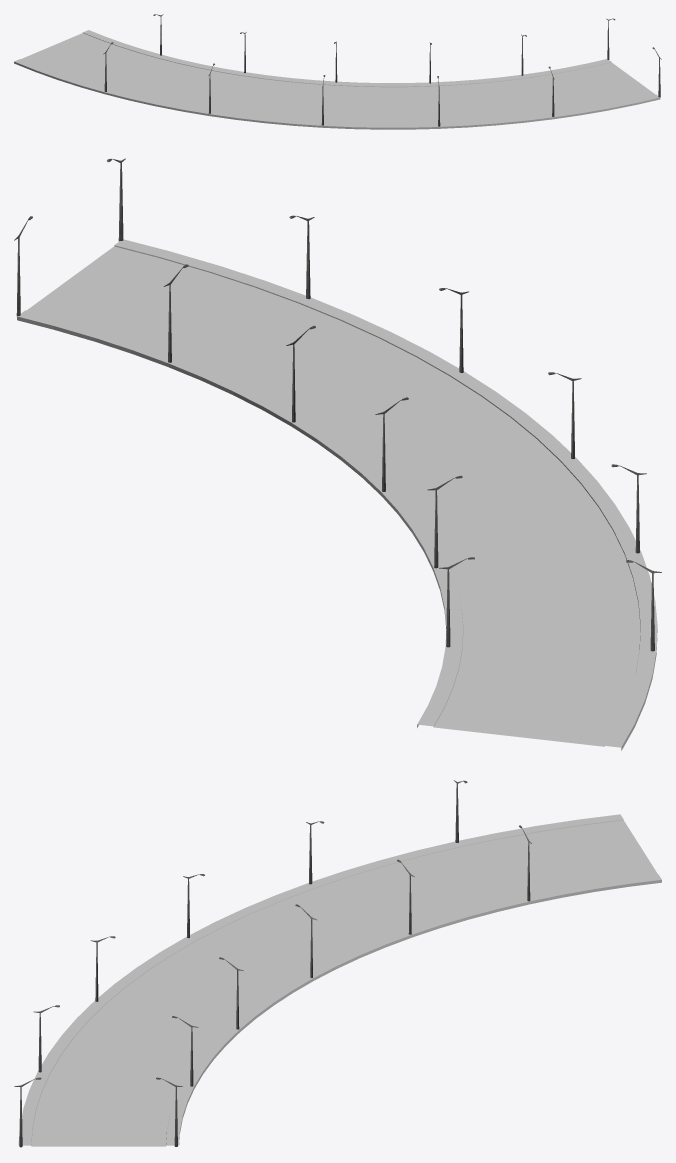
File: Big_Road_75.FBX
3 views of the same model, one above another, from view 1: azimuth 30°, elevation 25°; view 2: azimuth 150°, elevation 25°; view 3: azimuth 270°, elevation 25° (orthographic). The views are drawn at different scales.
Parts seen in each view (by area): view 1: Big_Road_75, city_light014; view 2: Big_Road_75, city_light014; view 3: Big_Road_75, city_light014.
Boxes of the visible parts, box(x1,y1,x2,y2) form: Big_Road_75: box(14, 30, 660, 129); city_light014: box(103, 14, 661, 126); Big_Road_75: box(17, 239, 657, 750); city_light014: box(14, 158, 661, 651); Big_Road_75: box(18, 814, 661, 1146); city_light014: box(14, 780, 531, 1147).
Bounding box in the file's own units: 111 × 91.61 × 11.04.
